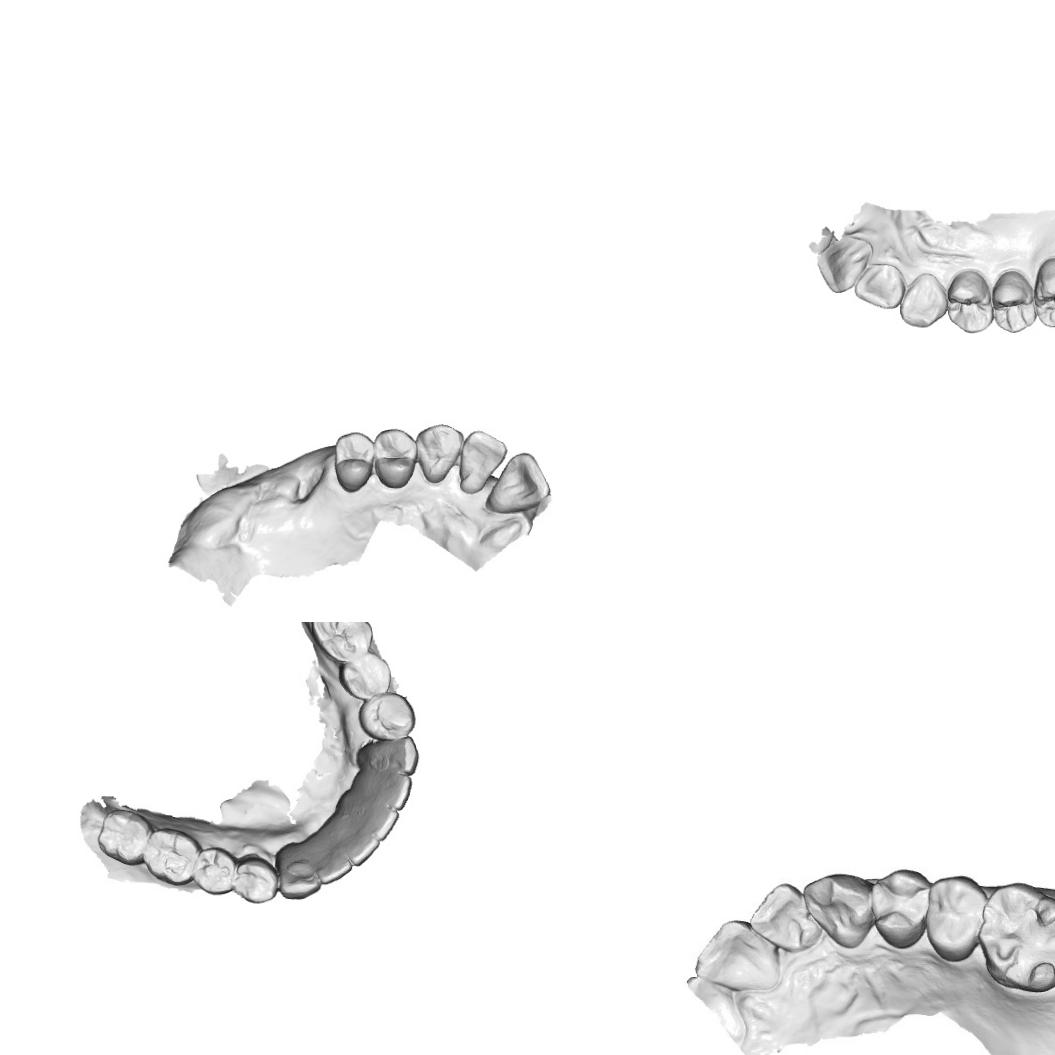canine: (803, 868, 881, 952), (414, 420, 465, 486), (897, 270, 947, 330), (356, 733, 420, 778), (274, 844, 322, 902), (285, 460, 334, 510)
incisor: (694, 917, 784, 990), (745, 880, 819, 951), (484, 450, 550, 516), (816, 233, 876, 296), (456, 428, 509, 494), (852, 262, 906, 311), (312, 838, 353, 886), (372, 772, 414, 812), (358, 803, 401, 842), (344, 828, 382, 868)
molar: (976, 881, 1055, 994), (141, 826, 203, 888), (95, 805, 154, 867), (310, 622, 374, 665), (1030, 254, 1055, 329)
premolar: (926, 874, 990, 964), (874, 867, 934, 946), (944, 266, 994, 335), (988, 266, 1037, 335), (370, 426, 418, 492), (357, 690, 417, 742), (332, 430, 376, 494), (338, 651, 392, 701), (233, 853, 279, 905), (193, 844, 238, 897)
